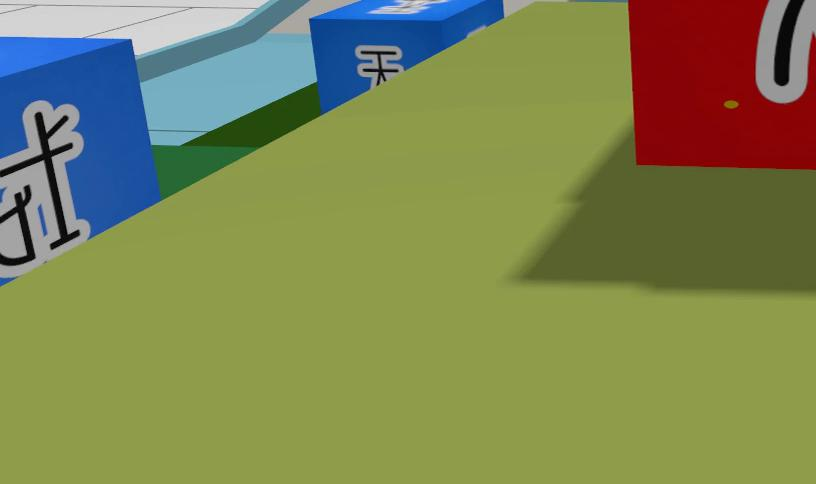KFS_FAKE: (627, 0, 816, 168), (755, 0, 816, 104)
KFS_REAL: (0, 36, 160, 284), (0, 37, 160, 284), (309, 0, 503, 111)
